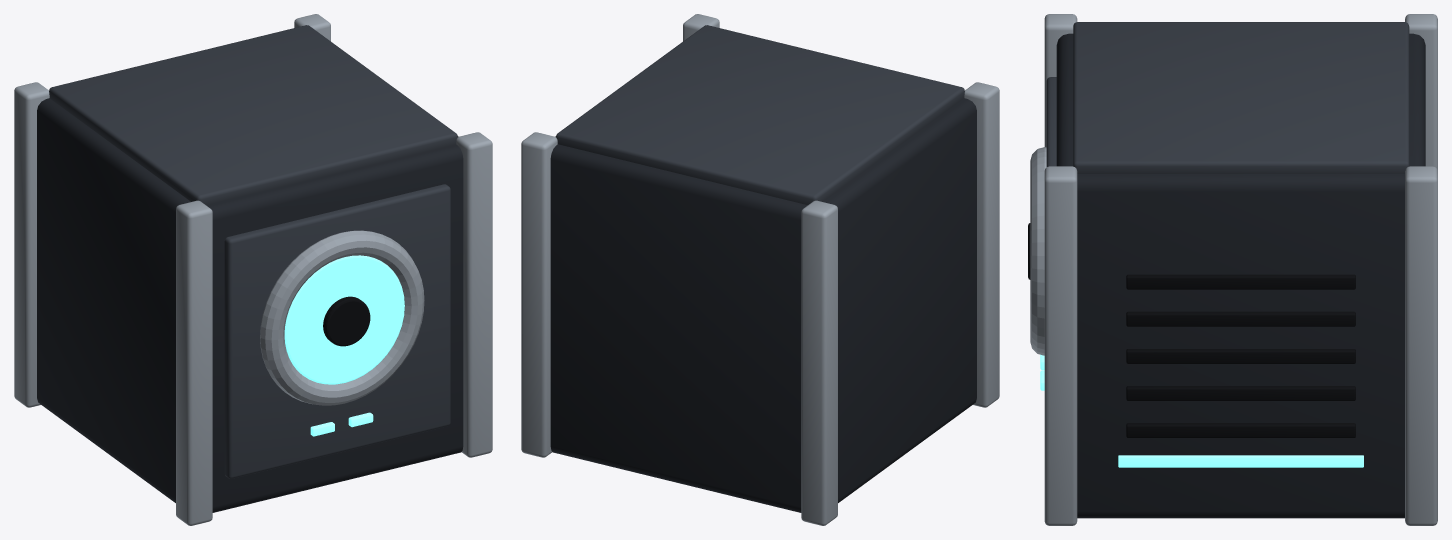
The model's file is rscControllerSimple.fbx.
3 views of the same model, side by side, from view 1: azimuth 30°, elevation 25°; view 2: azimuth 150°, elevation 25°; view 3: azimuth 270°, elevation 25° (orthographic). The views are drawn at different scales.
Parts seen in each view (by area): view 1: rscControllerSimple_case, rscControllerSimple_cap, rscControllerSimple_panel, rscControllerSimple_post, rscControllerSimple_ring, rscControllerSimple_core, rscControllerSimple_post.002, rscControllerSimple_post.001, rscControllerSimple_coreeye; view 2: rscControllerSimple_case, rscControllerSimple_cap, rscControllerSimple_post.001, rscControllerSimple_post.003, rscControllerSimple_post; view 3: rscControllerSimple_case, rscControllerSimple_cap, rscControllerSimple_post.002, rscControllerSimple_post.003, rscControllerSimple_vent4, rscControllerSimple_vent3, rscControllerSimple_vent2, rscControllerSimple_vent0, rscControllerSimple_vent1, rscControllerSimple_sidestrip, rscControllerSimple_ring, rscControllerSimple_post.001 (+2 smaller).
Boxes of the visible parts, x1,y1,x2,y2 form: rscControllerSimple_case: (37, 98, 463, 512); rscControllerSimple_cap: (49, 25, 457, 204); rscControllerSimple_panel: (224, 184, 450, 478); rscControllerSimple_post: (176, 200, 212, 525); rscControllerSimple_ring: (260, 230, 424, 405); rscControllerSimple_core: (284, 255, 404, 384); rscControllerSimple_post.002: (456, 132, 492, 457); rscControllerSimple_post.001: (14, 82, 49, 407); rscControllerSimple_coreeye: (323, 296, 370, 346); rscControllerSimple_case: (550, 98, 976, 512); rscControllerSimple_cap: (556, 25, 964, 204); rscControllerSimple_post.001: (801, 200, 837, 525); rscControllerSimple_post.003: (521, 132, 557, 457); rscControllerSimple_post: (964, 82, 999, 407); rscControllerSimple_case: (1056, 33, 1425, 518); rscControllerSimple_cap: (1073, 22, 1409, 173); rscControllerSimple_post.002: (1044, 166, 1077, 525); rscControllerSimple_post.003: (1405, 166, 1437, 525); rscControllerSimple_vent4: (1126, 274, 1355, 289); rscControllerSimple_vent3: (1126, 311, 1355, 326); rscControllerSimple_vent2: (1126, 349, 1355, 363); rscControllerSimple_vent0: (1126, 423, 1355, 437); rscControllerSimple_vent1: (1126, 386, 1355, 400); rscControllerSimple_sidestrip: (1118, 455, 1363, 467); rscControllerSimple_ring: (1030, 147, 1046, 355); rscControllerSimple_post.001: (1405, 14, 1437, 170).
Bounding box in the file's own units: 96 × 95 × 100.
